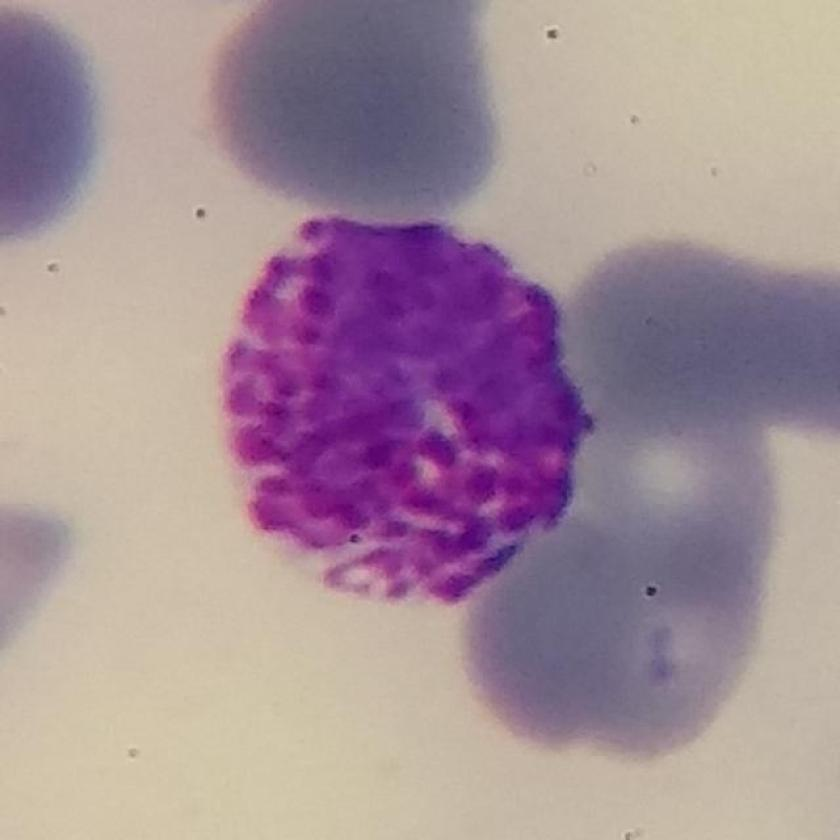basophil: (219, 206, 603, 607)
